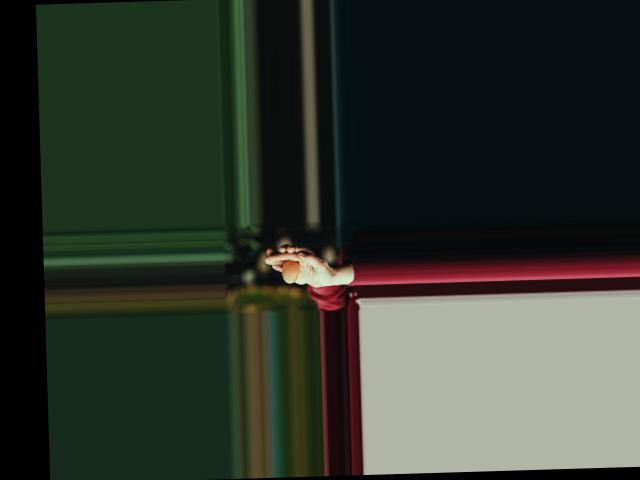egg: (282, 260, 300, 283)
